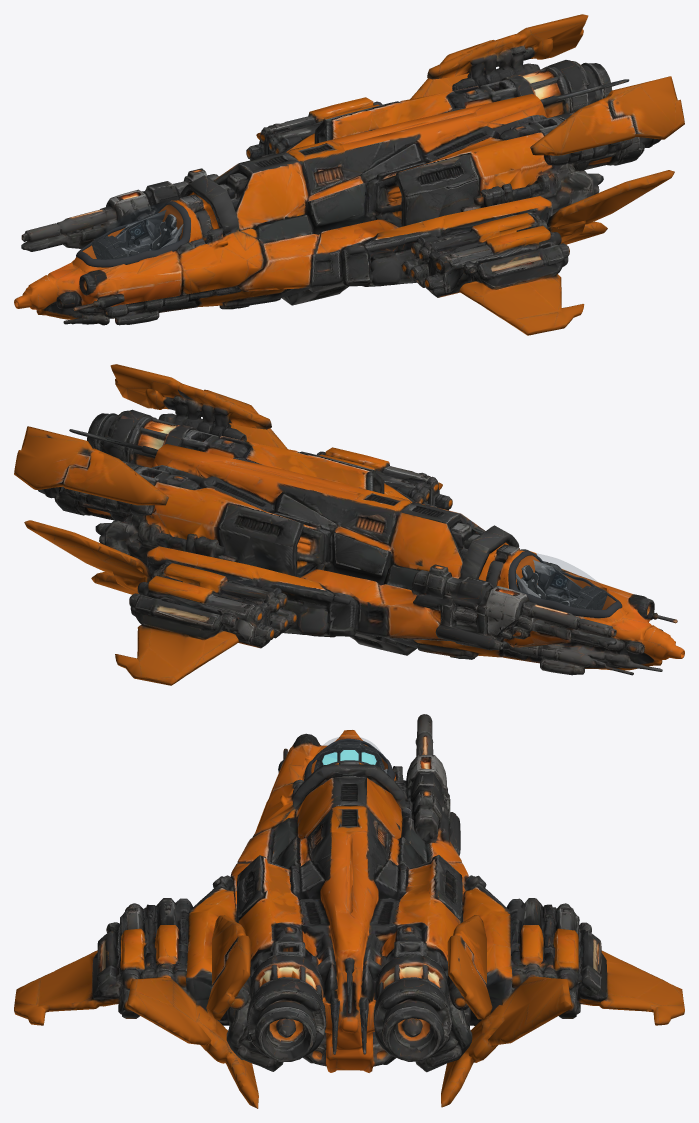
File: tracker.glb
The picture shows the model from 3 angles, top to bottom: view 1: azimuth 30°, elevation 25°; view 2: azimuth 150°, elevation 25°; view 3: azimuth 270°, elevation 25°; orthographic projection. The views are drawn at different scales.
Parts seen in each view (by area): view 1: tracker_game_hull, tracker_game_glass, tracker_game_cockpit, tracker_game_canopy_frame, tracker_game_console; view 2: tracker_game_hull, tracker_game_glass, tracker_game_cockpit, tracker_game_canopy_frame, tracker_game_console; view 3: tracker_game_hull, tracker_game_glass, tracker_game_console.
Part boxes in pixels (x1=…): tracker_game_hull: x1=14, y1=14, x2=684, y2=335; tracker_game_glass: x1=82, y1=203, x2=184, y2=259; tracker_game_cockpit: x1=115, y1=209, x2=183, y2=256; tracker_game_canopy_frame: x1=76, y1=201, x2=190, y2=267; tracker_game_console: x1=92, y1=235, x2=127, y2=259; tracker_game_hull: x1=14, y1=364, x2=684, y2=685; tracker_game_glass: x1=515, y1=553, x2=616, y2=609; tracker_game_cockpit: x1=516, y1=559, x2=582, y2=606; tracker_game_canopy_frame: x1=508, y1=551, x2=622, y2=617; tracker_game_console: x1=572, y1=585, x2=607, y2=609; tracker_game_hull: x1=14, y1=714, x2=684, y2=1108; tracker_game_glass: x1=309, y1=736, x2=389, y2=774; tracker_game_console: x1=314, y1=741, x2=384, y2=771.
Size of the model in its own units: 1.9 by 0.5075 by 1.46.
Materials: 7 (3 with a texture image).
